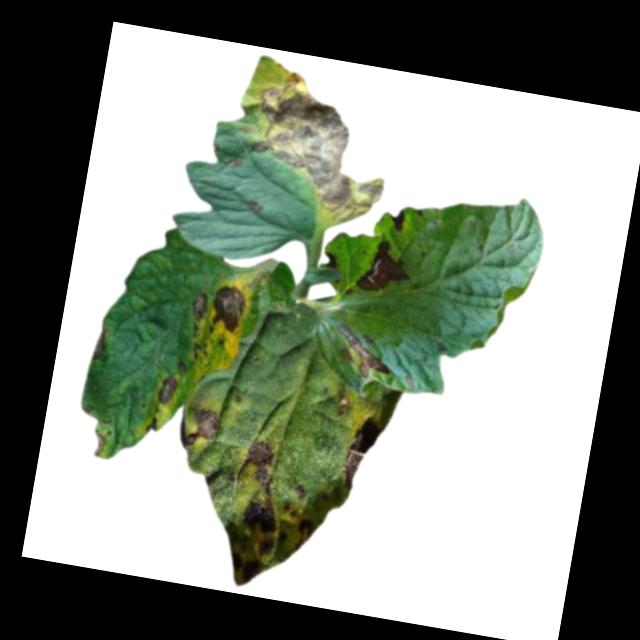Early_blight: (240, 63, 402, 221), (214, 489, 322, 598), (351, 232, 417, 300), (335, 412, 382, 497), (329, 321, 395, 380), (204, 278, 250, 341), (238, 433, 280, 490), (179, 399, 224, 451), (152, 370, 179, 407), (331, 382, 355, 419), (187, 287, 209, 321), (92, 324, 111, 361), (89, 425, 106, 459), (388, 206, 409, 232), (243, 200, 265, 217), (320, 247, 337, 268), (142, 413, 159, 433), (223, 155, 244, 170)
